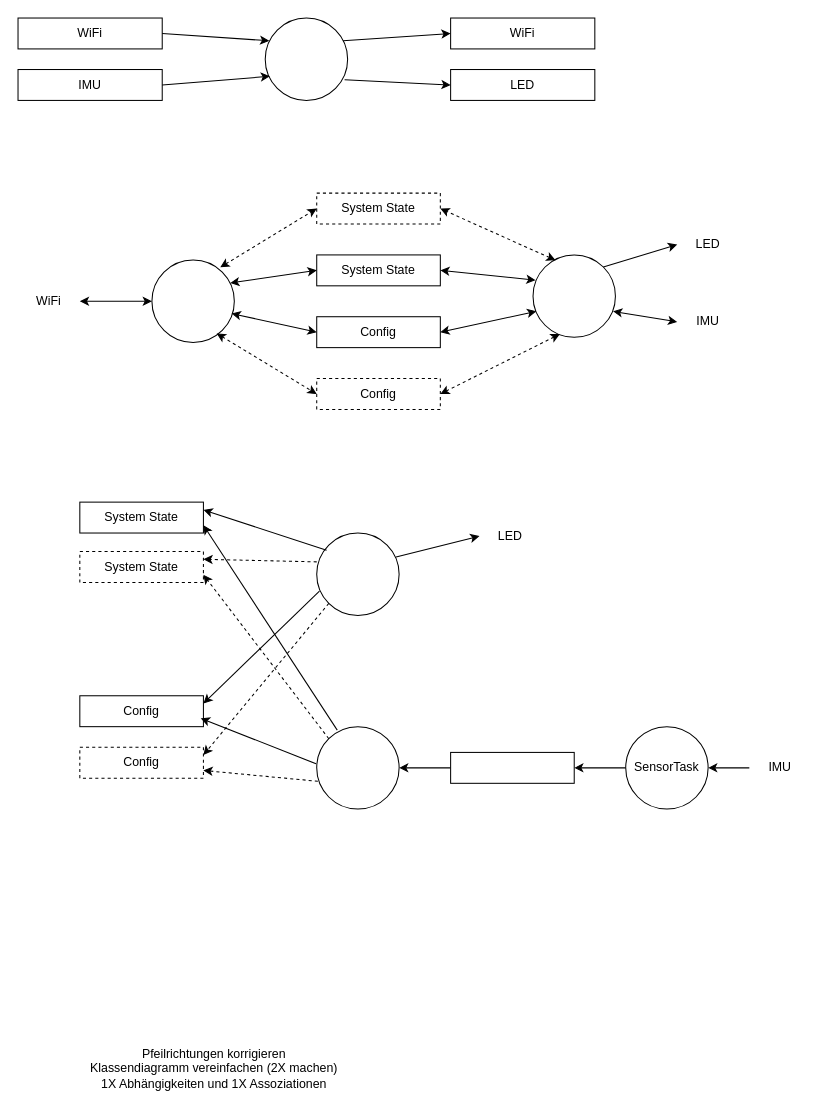
This 829x1118 diagram has some shape labels left out. Each missing label, with the centre of its shape:
Core 0: (x=192, y=300)
Core 1: (x=573, y=295)
Fishy Catchy: (x=306, y=58)
LEDTask: (x=357, y=573)
ProcessorTask: (x=357, y=767)
SampleQueue: (x=512, y=767)
